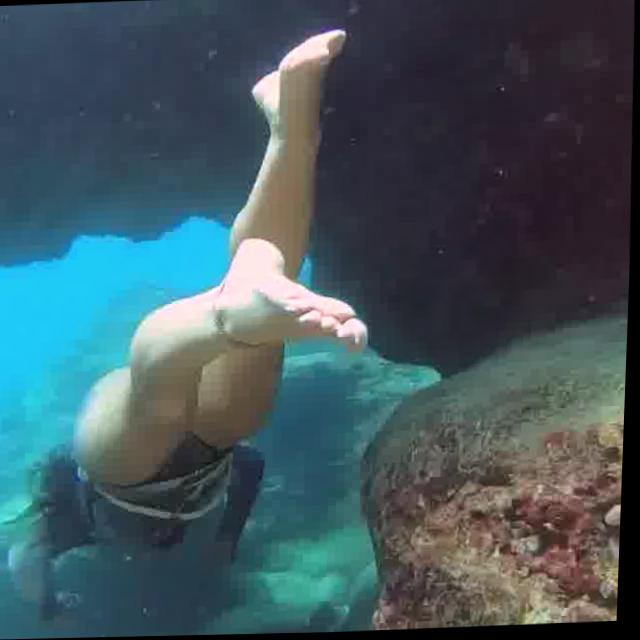human: (0, 17, 395, 623)
